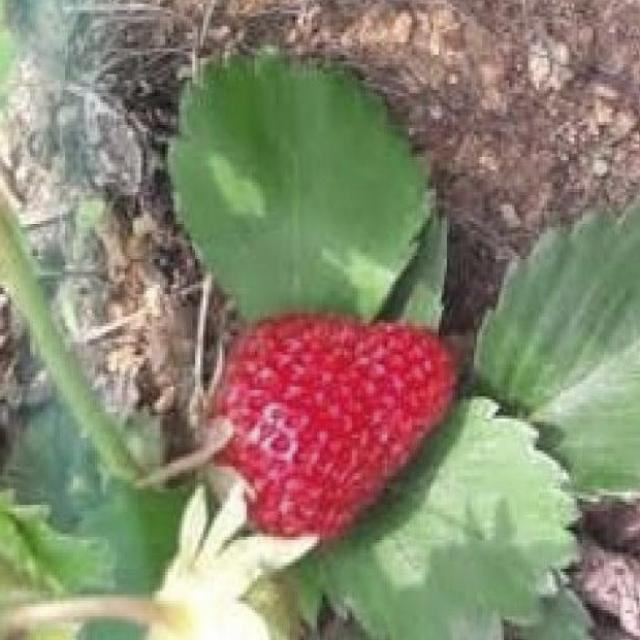Healthy Fruit: (205, 313, 460, 543)
